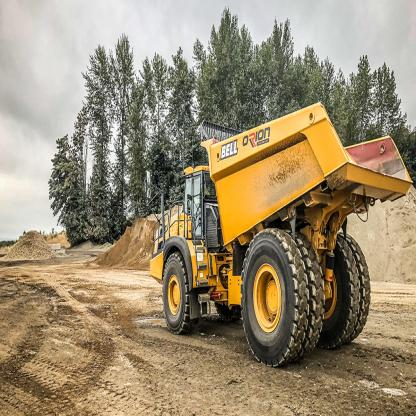dump_truck: (145, 104, 412, 364)
